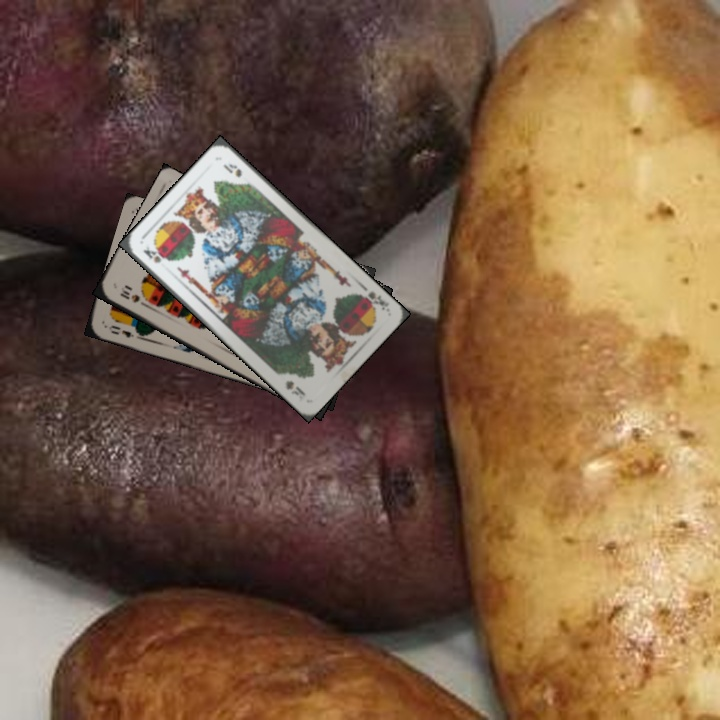EO: (105, 321, 142, 340)
S10: (116, 283, 150, 309)
SK: (355, 287, 392, 314), (139, 242, 168, 265)
